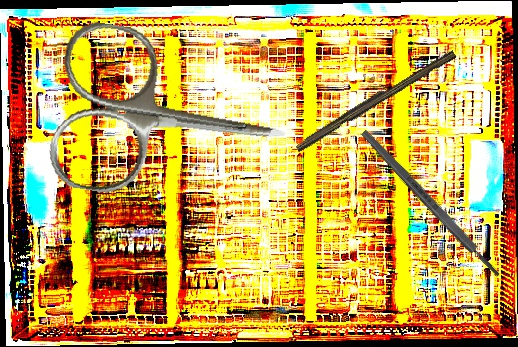Iris Scissors: (44, 17, 299, 220)
Scalpel Handle: (359, 127, 503, 280), (293, 45, 457, 155)
